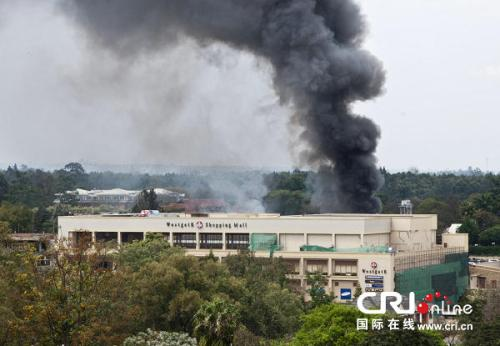smoke: (231, 1, 388, 213)
